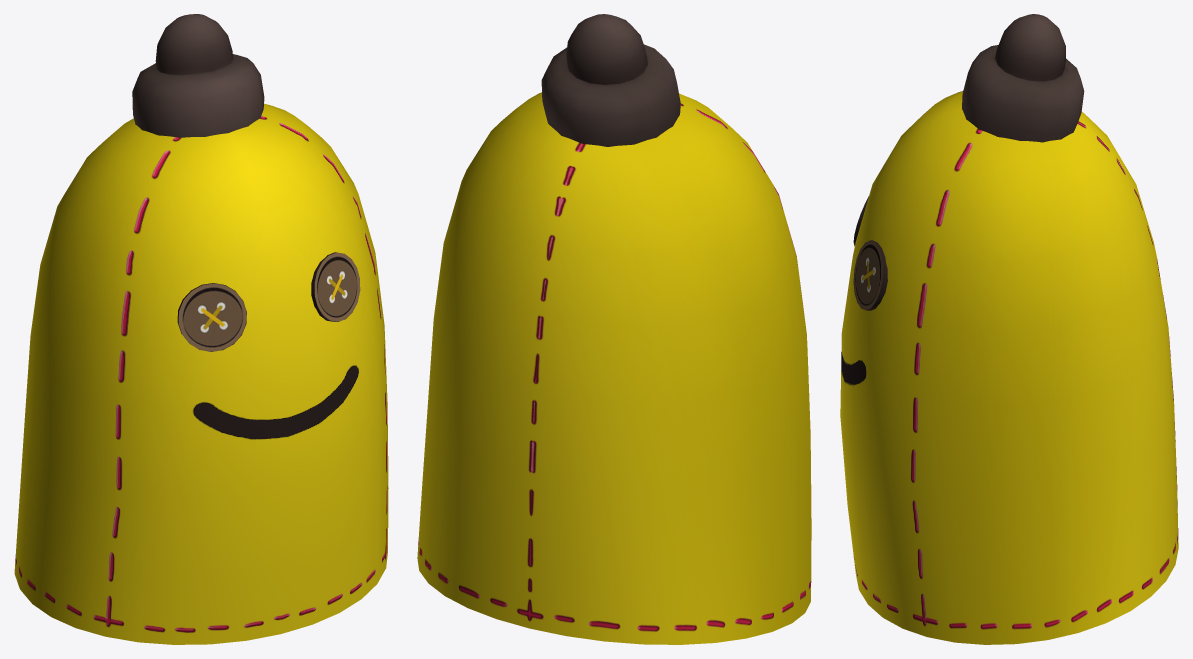
Rendered from Doll.FBX.
3 views of the same model, side by side, from view 1: azimuth 30°, elevation 25°; view 2: azimuth 150°, elevation 25°; view 3: azimuth 270°, elevation 25° (orthographic). The views are drawn at different scales.
Parts seen in each view (by area): view 1: Doll; view 2: Doll; view 3: Doll.
Part boxes in pixels (bbox=[...]): Doll: bbox=[14, 14, 388, 644]; Doll: bbox=[417, 14, 811, 644]; Doll: bbox=[840, 14, 1178, 644].
Size of the model in its own units: 64.68 by 101 by 55.73.
